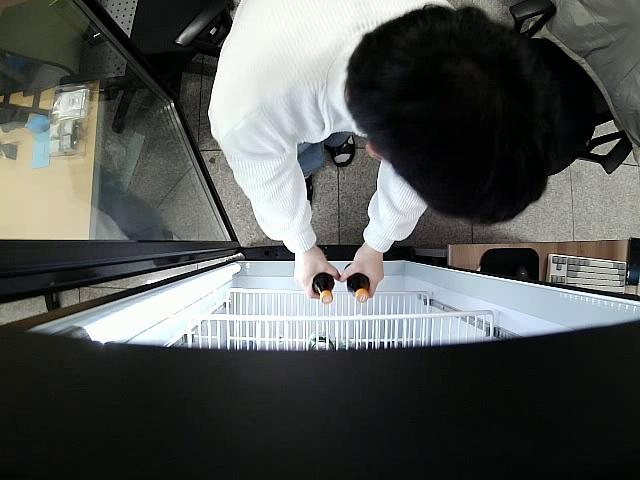00_hand: (341, 244, 385, 297), (296, 251, 339, 298)
17_vita500: (347, 264, 371, 303), (313, 272, 335, 305)
